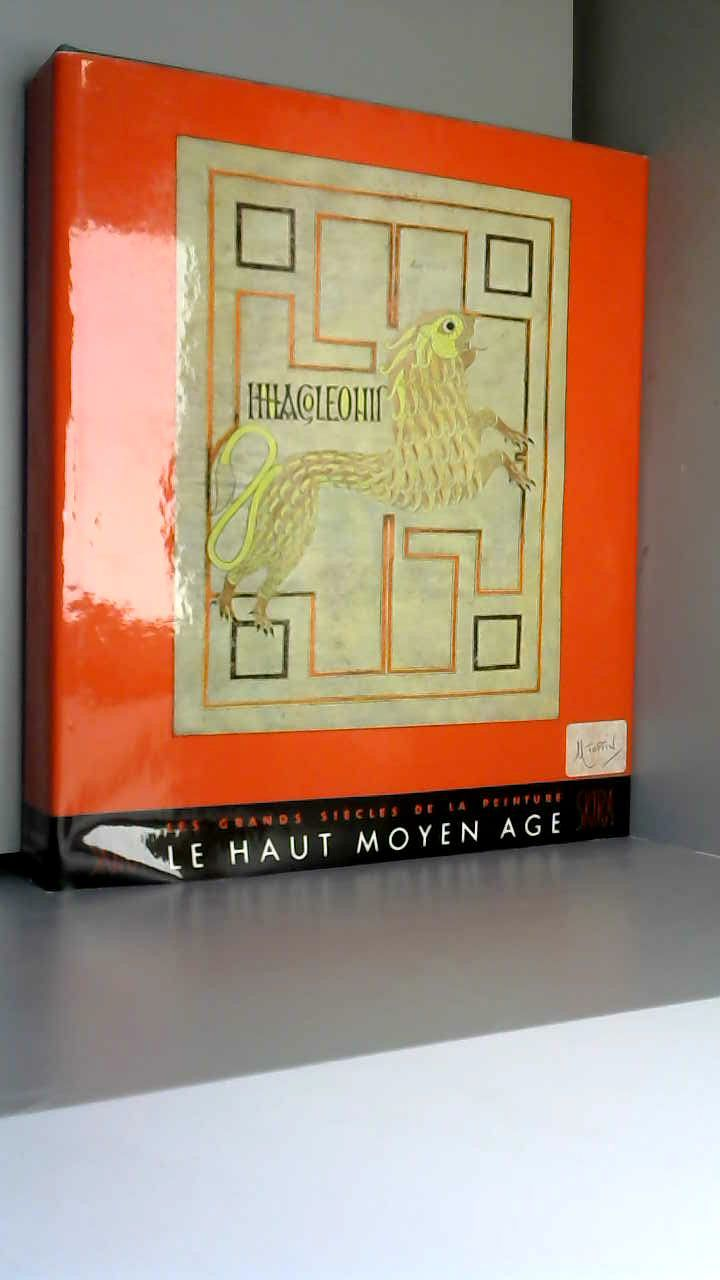book: (4, 33, 677, 922)
